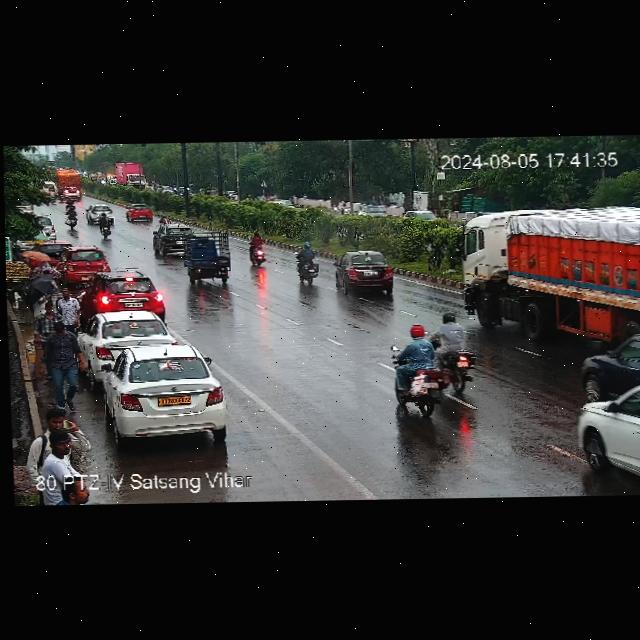bus: (459, 206, 640, 352)
car: (97, 344, 228, 444), (578, 382, 640, 495), (80, 309, 170, 368), (578, 331, 640, 402), (90, 271, 166, 314), (336, 249, 396, 292), (182, 238, 236, 284), (55, 247, 109, 280), (153, 220, 198, 251), (402, 207, 444, 224), (32, 216, 59, 240), (360, 202, 389, 222), (127, 204, 154, 222), (86, 203, 113, 221)
motorcycle: (434, 310, 474, 398), (395, 323, 435, 410), (289, 240, 324, 286), (246, 231, 270, 265), (95, 212, 116, 236), (64, 206, 80, 232), (341, 202, 350, 214), (49, 186, 55, 201), (58, 188, 64, 202), (66, 196, 73, 205)
person: (33, 408, 87, 476), (49, 322, 84, 397), (39, 302, 59, 378), (58, 287, 81, 328)
truck: (115, 158, 148, 191), (57, 168, 78, 189)
